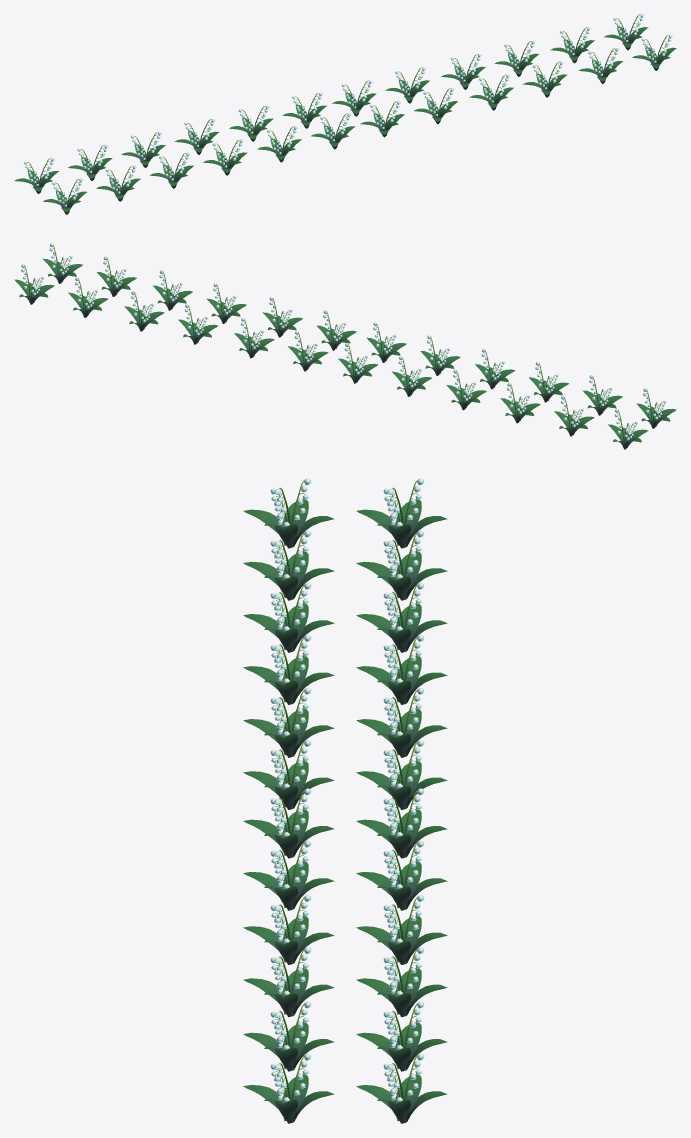
File: 大棚作物2.glb
3 renders of one model, top to bottom at view 1: azimuth 30°, elevation 25°; view 2: azimuth 150°, elevation 25°; view 3: azimuth 270°, elevation 25°, orthographic. The views are drawn at different scales.
Parts seen in each view (by area): view 1: Flower.006_Base_Material_0.024, Flower.006_Base_Material_0.046, Flower.006_Base_Material_0.031, Flower.006_Base_Material_0.039, Flower.006_Base_Material_0.041, Flower.006_Base_Material_0.027, Flower.006_Base_Material_0.025, Flower.006_Base_Material_0.030, Flower.006_Base_Material_0.037, Flower.006_Base_Material_0.045, Flower.006_Base_Material_0.028, Flower.006_Base_Material_0.036 (+12 smaller); view 2: Flower.006_Base_Material_0.028, Flower.006_Base_Material_0.037, Flower.006_Base_Material_0.038, Flower.006_Base_Material_0.027, Flower.006_Base_Material_0.033, Flower.006_Base_Material_0.026, Flower.006_Base_Material_0.034, Flower.006_Base_Material_0.043, Flower.006_Base_Material_0.024, Flower.006_Base_Material_0.036, Flower.006_Base_Material_0.047, Flower.006_Base_Material_0.041 (+12 smaller); view 3: Flower.006_Base_Material_0.046, Flower.006_Base_Material_0.047, Flower.006_Base_Material_0.043, Flower.006_Base_Material_0.038, Flower.006_Base_Material_0.024, Flower.006_Base_Material_0.025, Flower.006_Base_Material_0.039, Flower.006_Base_Material_0.042, Flower.006_Base_Material_0.029, Flower.006_Base_Material_0.030, Flower.006_Base_Material_0.031, Flower.006_Base_Material_0.032 (+12 smaller).
Part boxes in pixels (x1,y1,x2,y2): Flower.006_Base_Material_0.024: (96, 165, 140, 201); Flower.006_Base_Material_0.046: (229, 105, 273, 141); Flower.006_Base_Material_0.031: (203, 139, 247, 175); Flower.006_Base_Material_0.039: (469, 74, 513, 110); Flower.006_Base_Material_0.041: (332, 80, 376, 116); Flower.006_Base_Material_0.027: (43, 178, 86, 214); Flower.006_Base_Material_0.025: (68, 145, 112, 180); Flower.006_Base_Material_0.030: (174, 119, 219, 154); Flower.006_Base_Material_0.037: (494, 40, 538, 76); Flower.006_Base_Material_0.045: (282, 92, 326, 128); Flower.006_Base_Material_0.028: (149, 152, 193, 188); Flower.006_Base_Material_0.036: (523, 61, 567, 97); Flower.006_Base_Material_0.028: (529, 362, 568, 402); Flower.006_Base_Material_0.037: (124, 291, 164, 331); Flower.006_Base_Material_0.038: (178, 304, 218, 344); Flower.006_Base_Material_0.027: (636, 388, 676, 428); Flower.006_Base_Material_0.033: (14, 264, 54, 304); Flower.006_Base_Material_0.026: (608, 409, 648, 449); Flower.006_Base_Material_0.034: (68, 277, 108, 317); Flower.006_Base_Material_0.043: (262, 297, 302, 337); Flower.006_Base_Material_0.024: (582, 375, 622, 415); Flower.006_Base_Material_0.036: (153, 270, 192, 310); Flower.006_Base_Material_0.047: (420, 335, 460, 375); Flower.006_Base_Material_0.041: (288, 331, 328, 371); Flower.006_Base_Material_0.046: (356, 687, 447, 757); Flower.006_Base_Material_0.047: (243, 687, 334, 757); Flower.006_Base_Material_0.043: (243, 840, 334, 910); Flower.006_Base_Material_0.038: (356, 895, 447, 964); Flower.006_Base_Material_0.024: (243, 530, 334, 600); Flower.006_Base_Material_0.025: (356, 530, 447, 600); Flower.006_Base_Material_0.039: (243, 895, 334, 964); Flower.006_Base_Material_0.042: (356, 840, 447, 910); Flower.006_Base_Material_0.029: (356, 582, 447, 652); Flower.006_Base_Material_0.030: (356, 634, 447, 704); Flower.006_Base_Material_0.031: (243, 634, 334, 704); Flower.006_Base_Material_0.032: (243, 1053, 334, 1123).
Size of the model in its own units: 10.91 by 0.5728 by 1.54.
24 materials, 24 textured.
